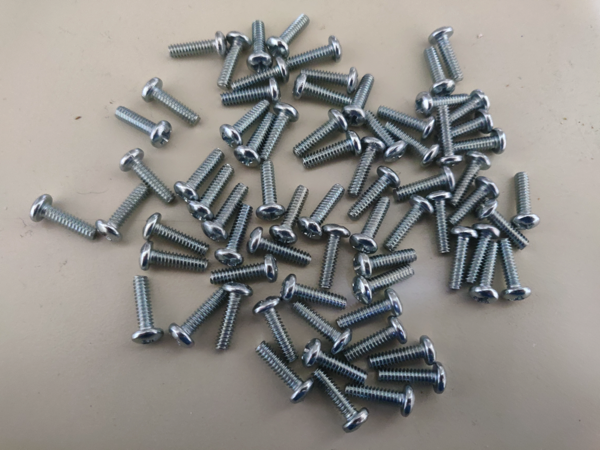shortscrew: (163, 282, 231, 346), (94, 174, 152, 243), (345, 163, 401, 231), (314, 368, 370, 433), (27, 193, 101, 242), (139, 76, 210, 126), (141, 206, 213, 255), (121, 145, 179, 205), (258, 345, 314, 407), (249, 293, 298, 363), (444, 174, 499, 234), (292, 180, 346, 240), (278, 32, 349, 77), (342, 317, 411, 363), (293, 303, 354, 355), (172, 145, 225, 204), (197, 178, 248, 238), (331, 292, 407, 332), (110, 104, 176, 150), (268, 179, 310, 250), (218, 95, 276, 146), (213, 281, 254, 353), (133, 237, 211, 273), (236, 101, 276, 171), (264, 11, 318, 62), (185, 163, 233, 220), (303, 348, 375, 386), (213, 201, 254, 267), (372, 362, 449, 397), (243, 229, 312, 268), (279, 273, 348, 312), (292, 108, 348, 156), (353, 102, 400, 159), (381, 196, 428, 252), (203, 255, 281, 288), (486, 203, 538, 251), (436, 90, 494, 133), (340, 384, 423, 414), (315, 223, 351, 292), (365, 335, 439, 368), (436, 113, 497, 152), (355, 260, 421, 296), (464, 224, 500, 289), (447, 148, 486, 208), (426, 26, 466, 84), (342, 134, 378, 198), (341, 64, 377, 127), (259, 107, 297, 164), (214, 30, 250, 90), (381, 120, 436, 159), (167, 30, 234, 62), (434, 103, 466, 169), (127, 272, 154, 350), (372, 101, 435, 134), (290, 76, 365, 103), (361, 188, 393, 251), (299, 137, 360, 170), (218, 77, 282, 108), (506, 236, 534, 304), (442, 127, 509, 155), (452, 222, 477, 297), (392, 172, 461, 199), (510, 171, 540, 232), (416, 43, 451, 94), (349, 245, 426, 267), (225, 64, 288, 90), (476, 241, 500, 308), (247, 11, 272, 72), (431, 188, 451, 263), (253, 153, 275, 220), (414, 93, 474, 117), (299, 66, 361, 85)
